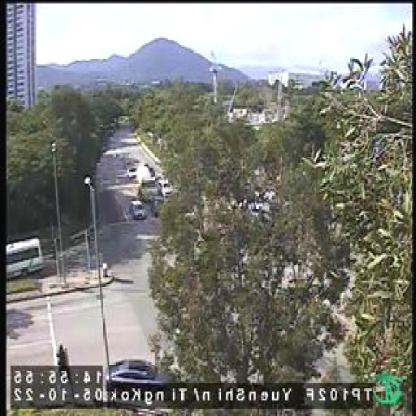Bus: (8, 237, 45, 278)
Car: (133, 199, 148, 217)
